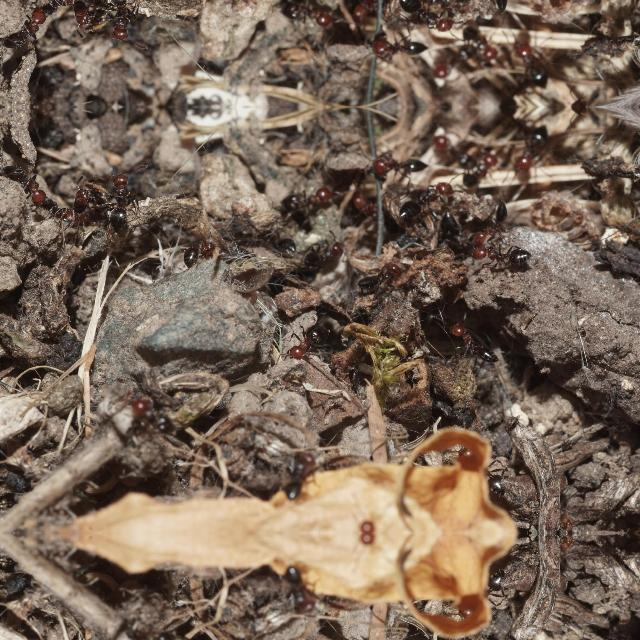Crematogaster: (276, 444, 332, 506), (276, 560, 332, 620), (104, 160, 144, 232), (449, 320, 505, 370), (388, 176, 450, 220), (133, 401, 194, 445), (387, 0, 450, 36), (459, 148, 507, 194), (459, 18, 507, 64), (104, 0, 144, 52), (377, 148, 438, 182), (285, 318, 331, 362), (377, 31, 438, 64), (514, 124, 554, 174), (514, 38, 554, 88), (471, 240, 539, 266), (302, 229, 342, 273), (14, 160, 52, 206), (14, 6, 52, 52), (426, 126, 476, 160), (426, 52, 476, 86), (283, 180, 329, 216), (474, 198, 510, 244), (436, 208, 474, 248), (283, 0, 329, 32), (345, 190, 389, 222), (133, 620, 194, 640), (183, 240, 221, 270), (258, 226, 296, 254), (345, 0, 389, 21), (474, 0, 510, 13)
